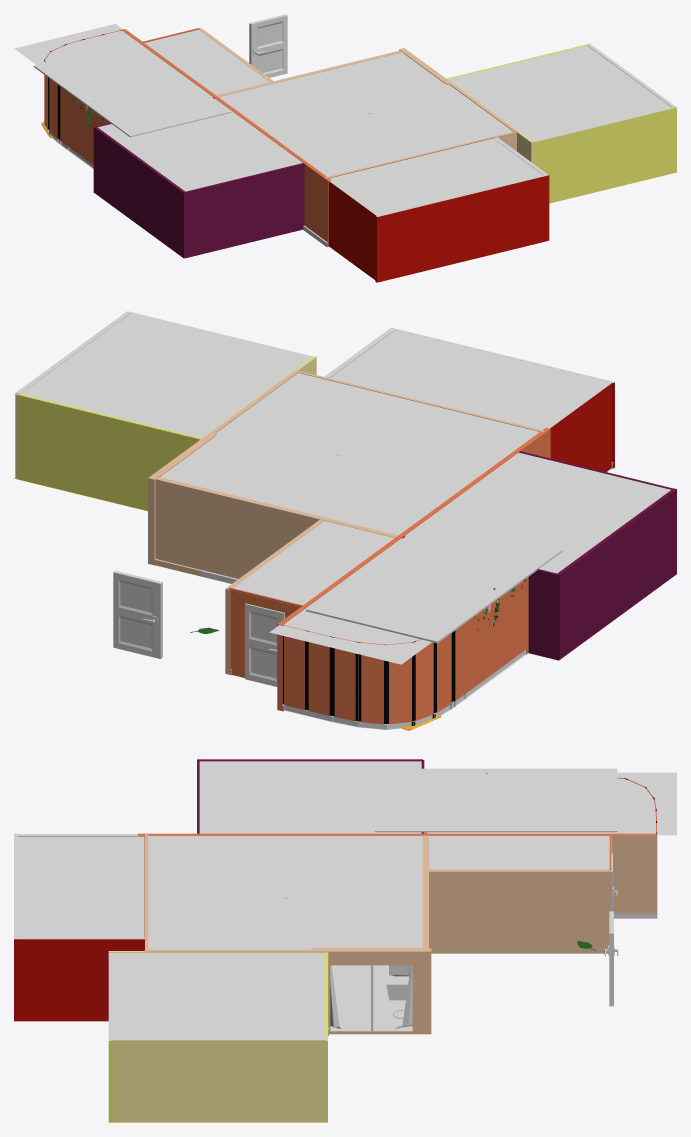
The model's file is AppartementCharlie.fbx.
3 views of the same model, one above another, from view 1: azimuth 30°, elevation 25°; view 2: azimuth 150°, elevation 25°; view 3: azimuth 270°, elevation 25° (orthographic). The views are drawn at different scales.
Visible parts, largest first — view 1: Plafond es, Plafond c, Cube.096, Plafond, Mur 1, Plafond chambre, Plafond sdb, Cube.065, Cube.064, Cube.095, Sol et mur, Cube.008 (+7 smaller); view 2: Plafond es, Plafond c, Sol et mur, Plafond, Plafond chambre, Plafond sdb, Mur 3, Cube.024, Cube.064, Plafond studio, Cube.095, porte.001 (+9 smaller); view 3: Plafond es, Plafond c, Mur 2, Plafond, Cube.035, Plafond chambre, Plafond sdb, Cube.094, Cube.008, Cube.025, Plafond studio, Plane (+4 smaller).
Boxes of the visible parts, left/top/right/bottom form: Plafond es: left=145, top=29, right=512, bottom=176; Plafond c: left=448, top=43, right=676, bottom=142; Cube.096: left=375, top=175, right=545, bottom=282; Plafond: left=34, top=41, right=231, bottom=137; Mur 1: left=533, top=107, right=676, bottom=203; Plafond chambre: left=98, top=98, right=302, bottom=191; Plafond sdb: left=330, top=138, right=542, bottom=214; Cube.065: left=185, top=163, right=304, bottom=258; Cube.064: left=94, top=126, right=187, bottom=258; Cube.095: left=328, top=178, right=379, bottom=279; Sol et mur: left=44, top=30, right=121, bottom=169; Cube.008: left=121, top=29, right=331, bottom=246; Plafond es: left=160, top=373, right=539, bottom=605; Plafond c: left=14, top=311, right=312, bottom=439; Sol et mur: left=282, top=577, right=528, bottom=730; Plafond: left=306, top=518, right=562, bottom=643; Plafond chambre: left=404, top=452, right=670, bottom=573; Plafond sdb: left=330, top=330, right=606, bottom=429; Mur 3: left=18, top=394, right=201, bottom=510; Cube.024: left=155, top=477, right=398, bottom=583; Cube.064: left=557, top=488, right=676, bottom=659; Plafond studio: left=269, top=538, right=431, bottom=664; Cube.095: left=542, top=382, right=612, bottom=471; porte.001: left=113, top=570, right=162, bottom=658; Plafond es: left=148, top=836, right=611, bottom=949; Plafond c: left=108, top=953, right=327, bottom=1040; Mur 2: left=111, top=1038, right=326, bottom=1122; Plafond: left=375, top=768, right=617, bottom=832; Cube.035: left=429, top=869, right=611, bottom=953; Plafond chambre: left=199, top=761, right=421, bottom=833; Plafond sdb: left=16, top=836, right=144, bottom=936; Cube.094: left=14, top=936, right=144, bottom=1021; Cube.008: left=138, top=833, right=657, bottom=918; Cube.025: left=144, top=948, right=431, bottom=1034; Plafond studio: left=424, top=772, right=676, bottom=835; Plane: left=330, top=965, right=412, bottom=1028.
Bounding box in the file's own units: 5279 × 768 × 5264.
